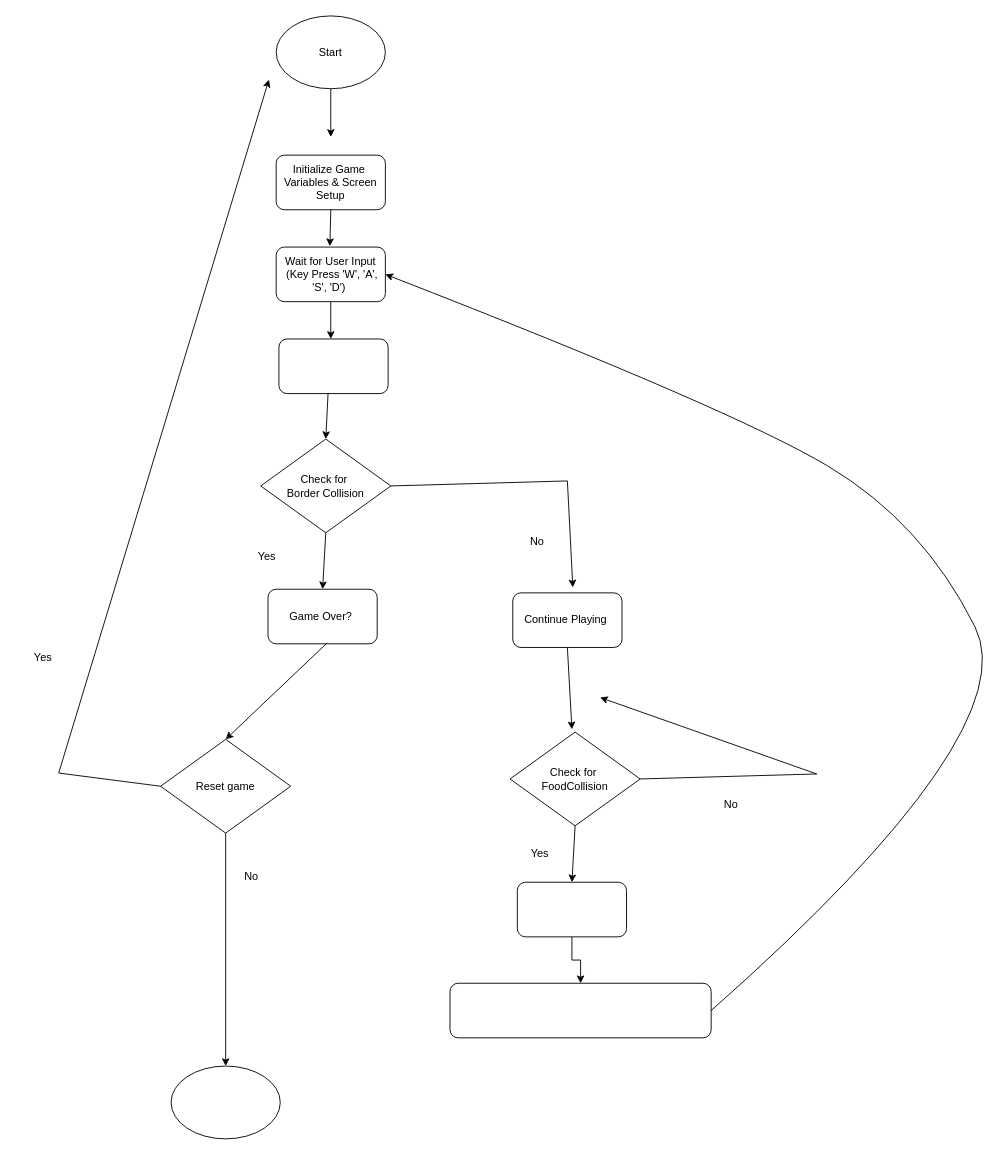
Image size: 998x1155. Some labels were removed from this diagram. The shapes that lost their labels are listed below. From the top down, each one's centre as x and y in pixels, then its label:
At point 333,366: "| Move Snake Based on Direction".
At point 571,909: "Increase Level".
At point 580,1010: "Place New Food Update Snake Position Update Display (Score)".
At point 225,1102: "End".
